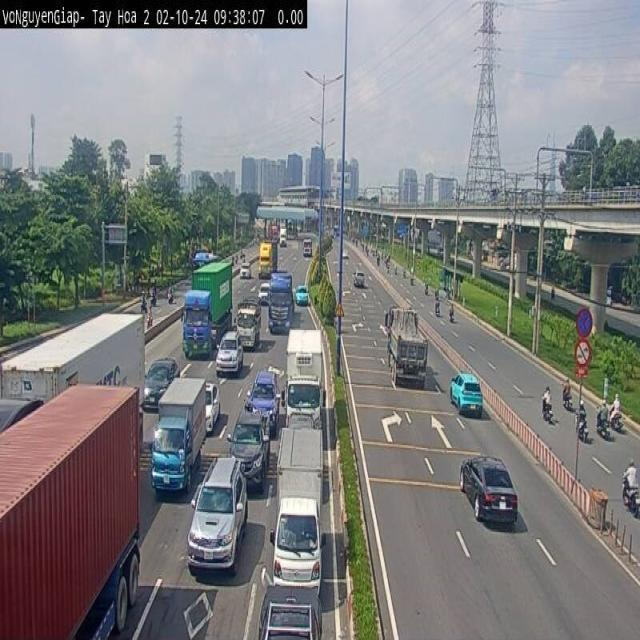car: (189, 448, 248, 589), (456, 460, 532, 530), (258, 584, 337, 640), (232, 402, 270, 493), (144, 345, 181, 414), (450, 370, 485, 423), (253, 365, 282, 427), (202, 369, 224, 439), (220, 323, 242, 381), (257, 280, 270, 307), (296, 282, 310, 307), (353, 272, 367, 291), (340, 246, 353, 263), (240, 265, 253, 280)
container-truck: (1, 387, 141, 633), (149, 376, 204, 495), (182, 259, 232, 355), (269, 269, 294, 340), (257, 237, 277, 284), (280, 224, 290, 249), (303, 235, 312, 258), (268, 223, 278, 242)
motorcycle: (620, 481, 640, 515), (591, 408, 610, 442), (539, 394, 556, 425), (575, 417, 589, 449), (561, 389, 574, 413), (428, 300, 444, 318), (148, 297, 160, 308), (146, 317, 156, 330), (167, 296, 175, 308), (448, 317, 459, 324), (235, 258, 238, 268), (241, 257, 247, 262), (240, 252, 243, 260)
person: (626, 453, 638, 495), (610, 387, 624, 420), (598, 396, 609, 430), (542, 384, 554, 414), (561, 371, 576, 394), (577, 403, 589, 427), (448, 300, 456, 318), (435, 287, 440, 306), (424, 281, 431, 291), (402, 262, 407, 272), (242, 252, 247, 262), (234, 253, 238, 261), (240, 247, 243, 255)
truck: (0, 310, 150, 443), (271, 420, 322, 601), (379, 299, 435, 400), (287, 326, 331, 443), (238, 292, 262, 356)
